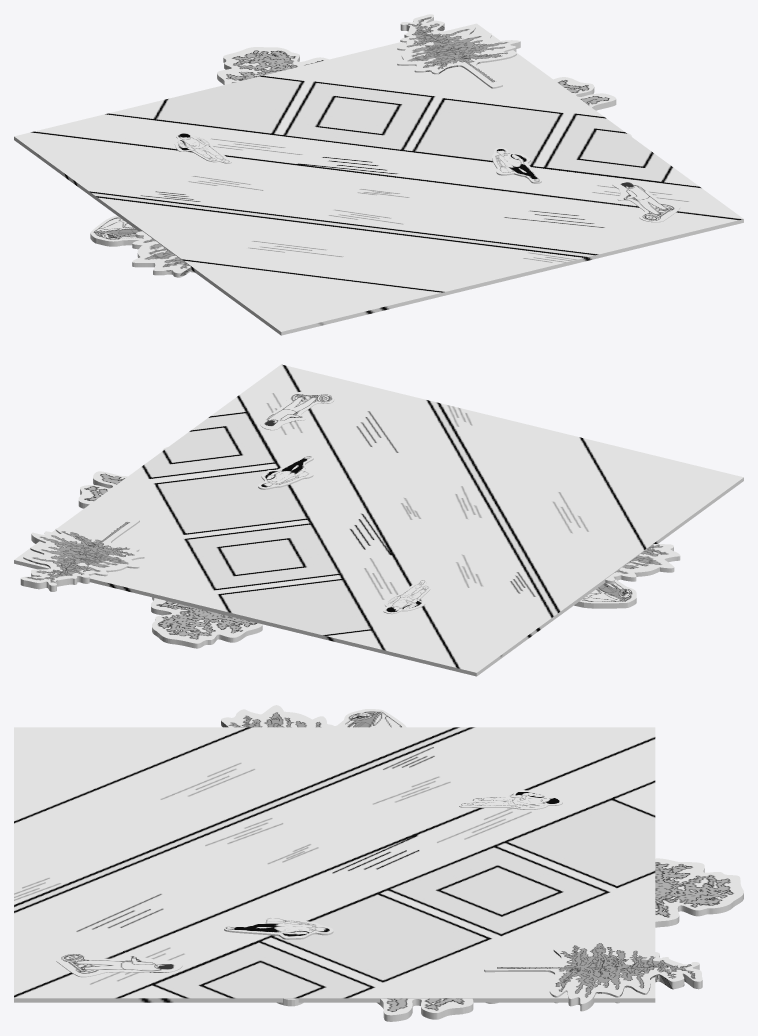
3 views of the same model, one above another, from view 1: azimuth 30°, elevation 25°; view 2: azimuth 150°, elevation 25°; view 3: azimuth 270°, elevation 25° (orthographic). The views are drawn at different scales.
Parts seen in each view (by area): view 1: 平面, Curve.009, 树2, Curve.004, 滑板, 车, 人物1, 树2.001, 人物3; view 2: 平面, Curve.009, 树2, Curve.004, 滑板, 车, 人物1, 人物3, 树2.001; view 3: 平面, Curve.009, 树2, 滑板, 树2.001, Curve.004, 人物1, 人物3, 车.
Part boxes in pixels (left/top/right/bottom): 平面: left=14, top=23, right=743, bottom=335; Curve.009: left=397, top=14, right=520, bottom=88; 树2: left=217, top=47, right=328, bottom=84; Curve.004: left=132, top=231, right=192, bottom=277; 滑板: left=612, top=180, right=680, bottom=222; 车: left=90, top=215, right=142, bottom=246; 人物1: left=492, top=147, right=541, bottom=183; 树2.001: left=553, top=77, right=631, bottom=136; 人物3: left=174, top=132, right=231, bottom=163; 平面: left=14, top=364, right=743, bottom=676; Curve.009: left=20, top=517, right=144, bottom=591; 树2: left=151, top=597, right=262, bottom=648; Curve.004: left=605, top=543, right=680, bottom=583; 滑板: left=260, top=392, right=334, bottom=430; 车: left=574, top=579, right=636, bottom=608; 人物1: left=258, top=455, right=313, bottom=489; 人物3: left=383, top=579, right=430, bottom=614; 树2.001: left=78, top=447, right=167, bottom=508; 平面: left=14, top=727, right=655, bottom=1002; Curve.009: left=484, top=936, right=702, bottom=1011; 树2: left=655, top=858, right=743, bottom=927; 滑板: left=56, top=952, right=182, bottom=977; 树2.001: left=277, top=998, right=498, bottom=1021; Curve.004: left=221, top=705, right=347, bottom=727; 人物1: left=224, top=915, right=333, bottom=939; 人物3: left=459, top=790, right=562, bottom=809; 车: left=338, top=709, right=406, bottom=727.
Bounding box in the file's own units: 0.4476 × 0.00911 × 0.4444.
Materials: 11 (11 with a texture image).
